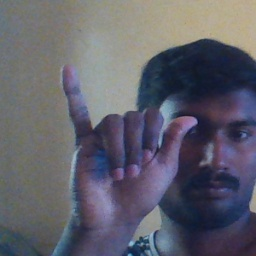J: (54, 60, 197, 221)
